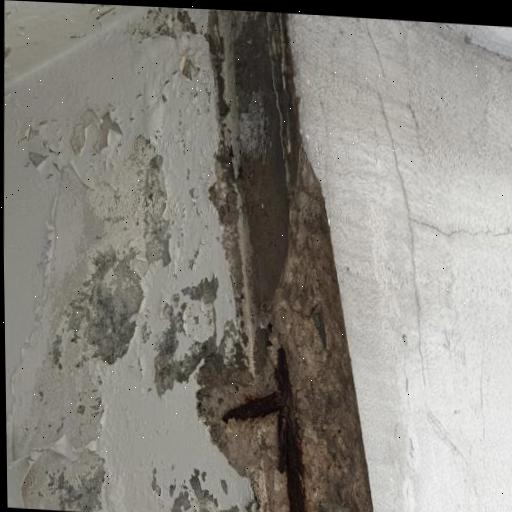exposed_rebar: (223, 349, 305, 512)
spalling: (198, 9, 373, 512)
